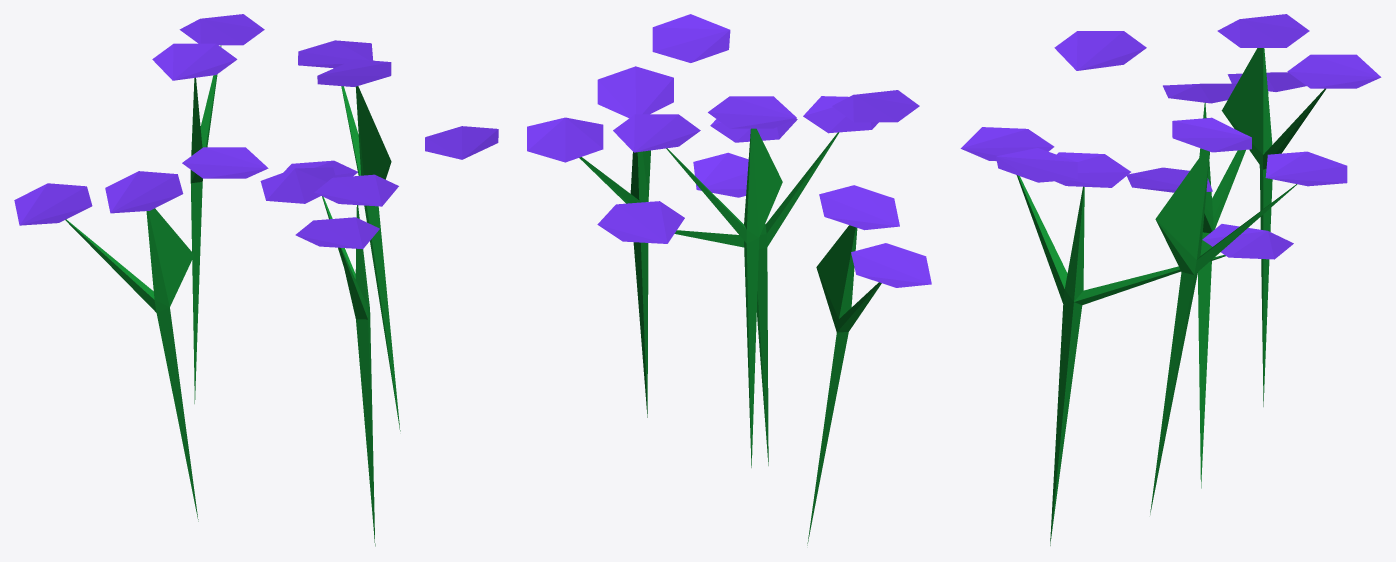
Rendered from PurpleAster_LOD2.fbx.
3 renders of one model, left to right at view 1: azimuth 30°, elevation 25°; view 2: azimuth 150°, elevation 25°; view 3: azimuth 270°, elevation 25°, orthographic. The views are drawn at different scales.
Visible parts, largest first — view 1: PurpleAster_LOD2; view 2: PurpleAster_LOD2; view 3: PurpleAster_LOD2.
Part boxes in pixels (x1=…): PurpleAster_LOD2: x1=14, y1=14, x2=498, y2=546; PurpleAster_LOD2: x1=527, y1=14, x2=931, y2=545; PurpleAster_LOD2: x1=960, y1=14, x2=1381, y2=545.
Bounding box in the file's own units: 24.17 × 30.03 × 26.96.
